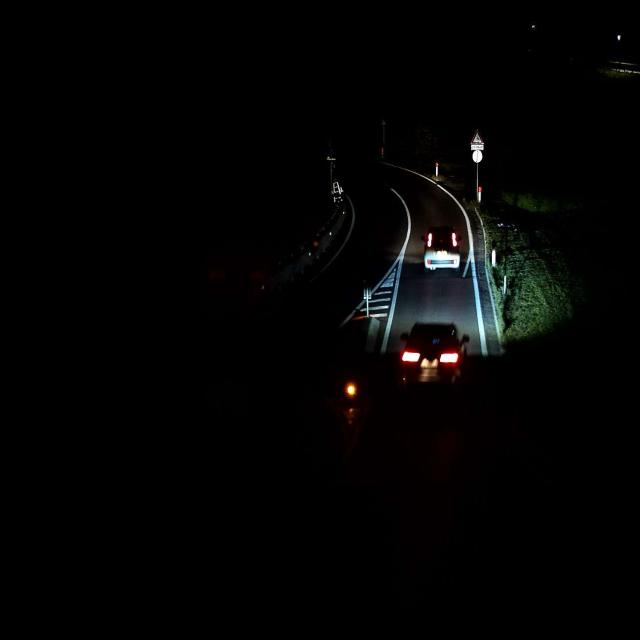car: (398, 321, 470, 387), (421, 224, 462, 272)
